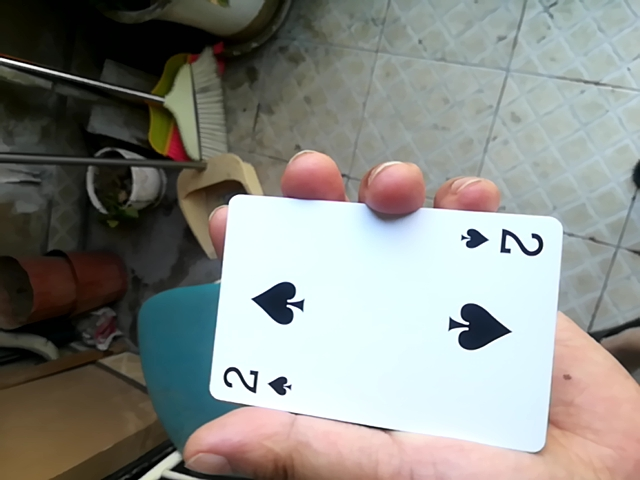ht 2: (198, 183, 563, 441)
